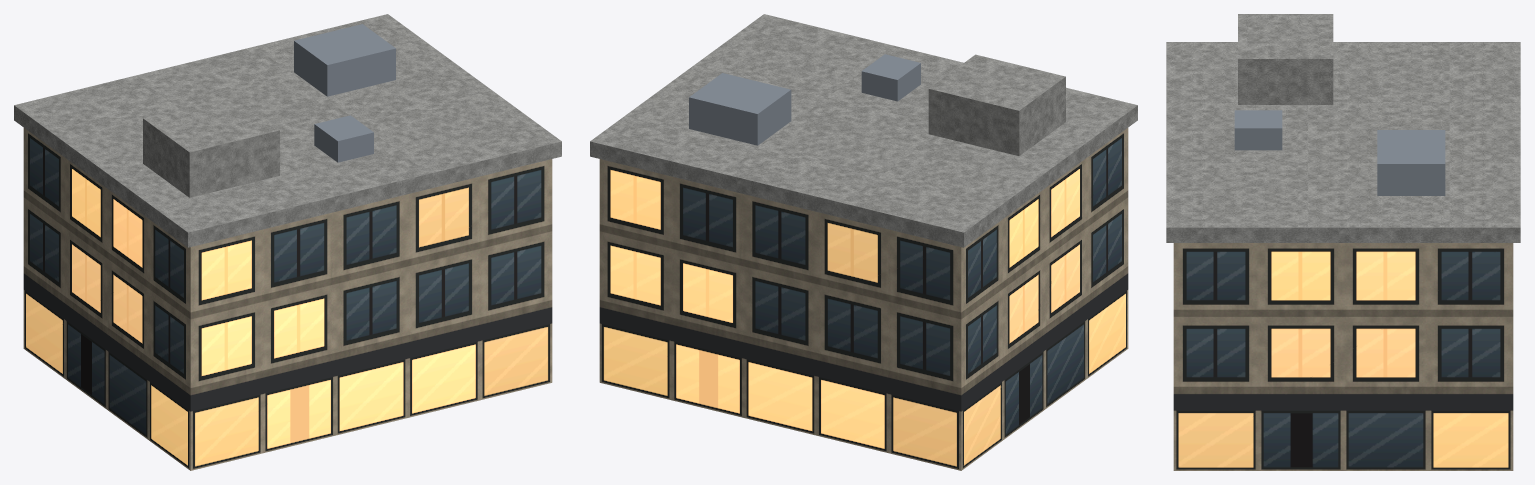
Rendered from comercio.glb.
3 renders of one model, left to right at view 1: azimuth 30°, elevation 25°; view 2: azimuth 150°, elevation 25°; view 3: azimuth 270°, elevation 25°, orthographic.
Visible parts, largest first — view 1: frente, cobertura, lados, equipamentos; view 2: frente, cobertura, lados, equipamentos; view 3: lados, cobertura, equipamentos.
Part boxes in pixels (x1,y1,x2,y2): frente: [190, 159, 552, 470]; cobertura: [14, 14, 561, 247]; lados: [23, 128, 190, 470]; equipamentos: [294, 24, 395, 162]; frente: [599, 159, 961, 470]; cobertura: [590, 14, 1137, 247]; lados: [961, 128, 1128, 470]; equipamentos: [689, 54, 920, 145]; lados: [1173, 243, 1513, 470]; cobertura: [1166, 14, 1520, 242]; equipamentos: [1234, 110, 1445, 195].
Bounding box in the file's own units: 6.2 × 4.56 × 5.
Materials: 4 (3 with a texture image).
